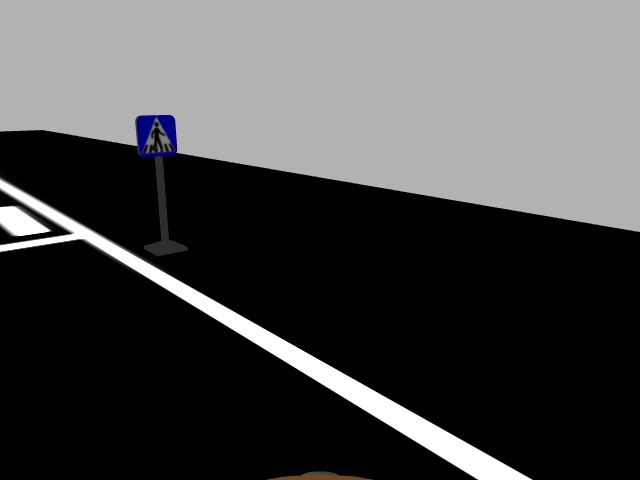crosswalk: (133, 111, 180, 160)
